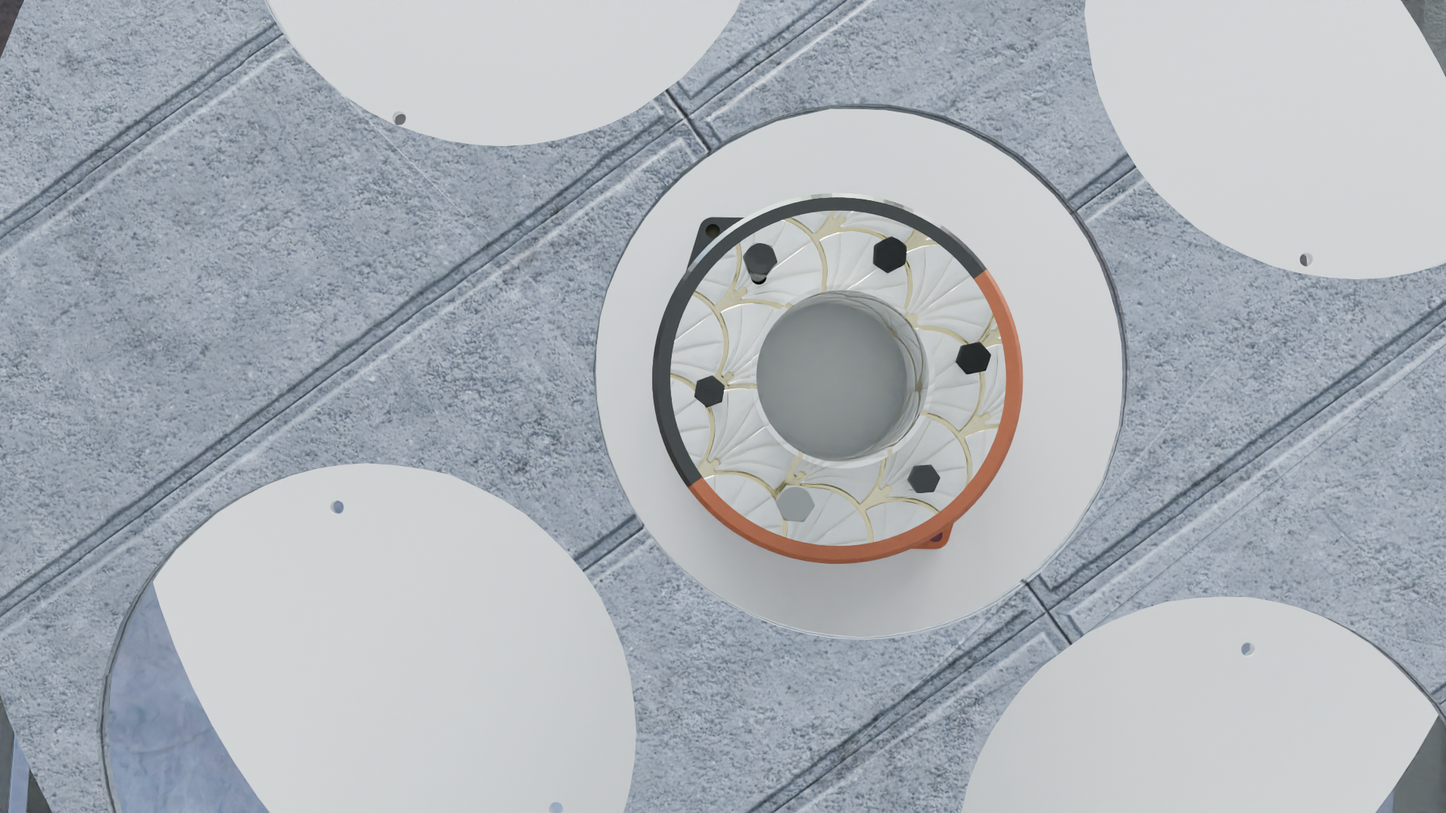bolt: (776, 486, 815, 522), (874, 236, 907, 272), (743, 242, 777, 276), (958, 342, 991, 374), (694, 375, 725, 407), (909, 464, 941, 493)
